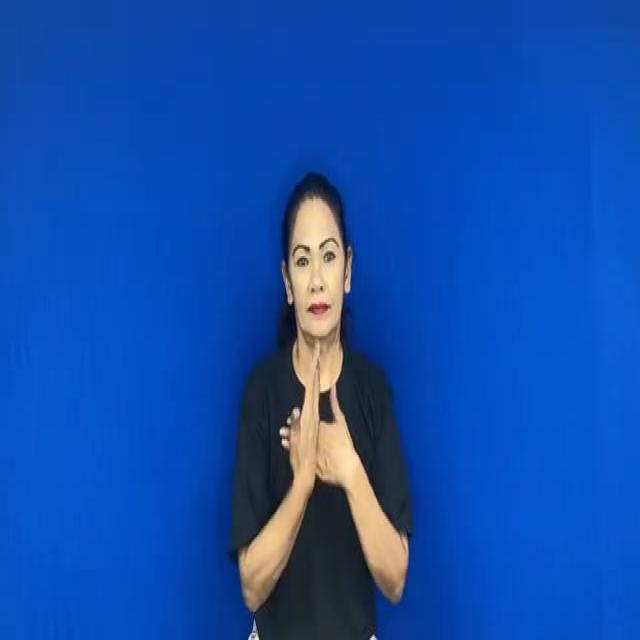bread: (278, 350, 362, 499)
